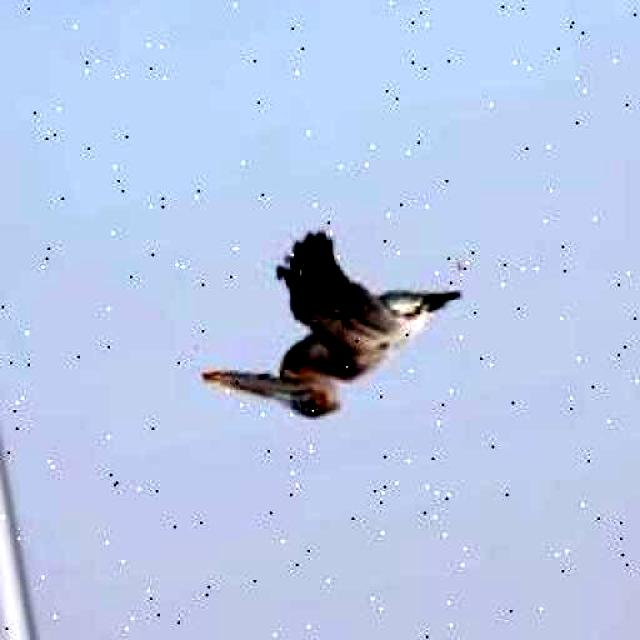airplane: (179, 202, 479, 439)
